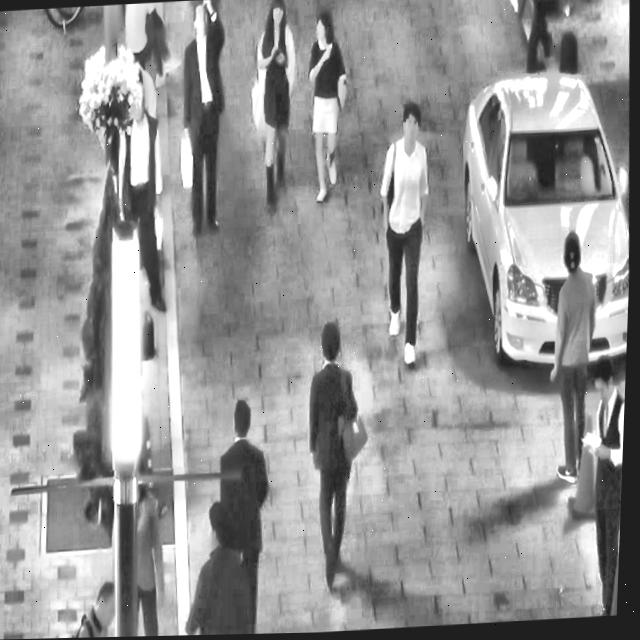light_vehicle: (448, 52, 638, 384)
